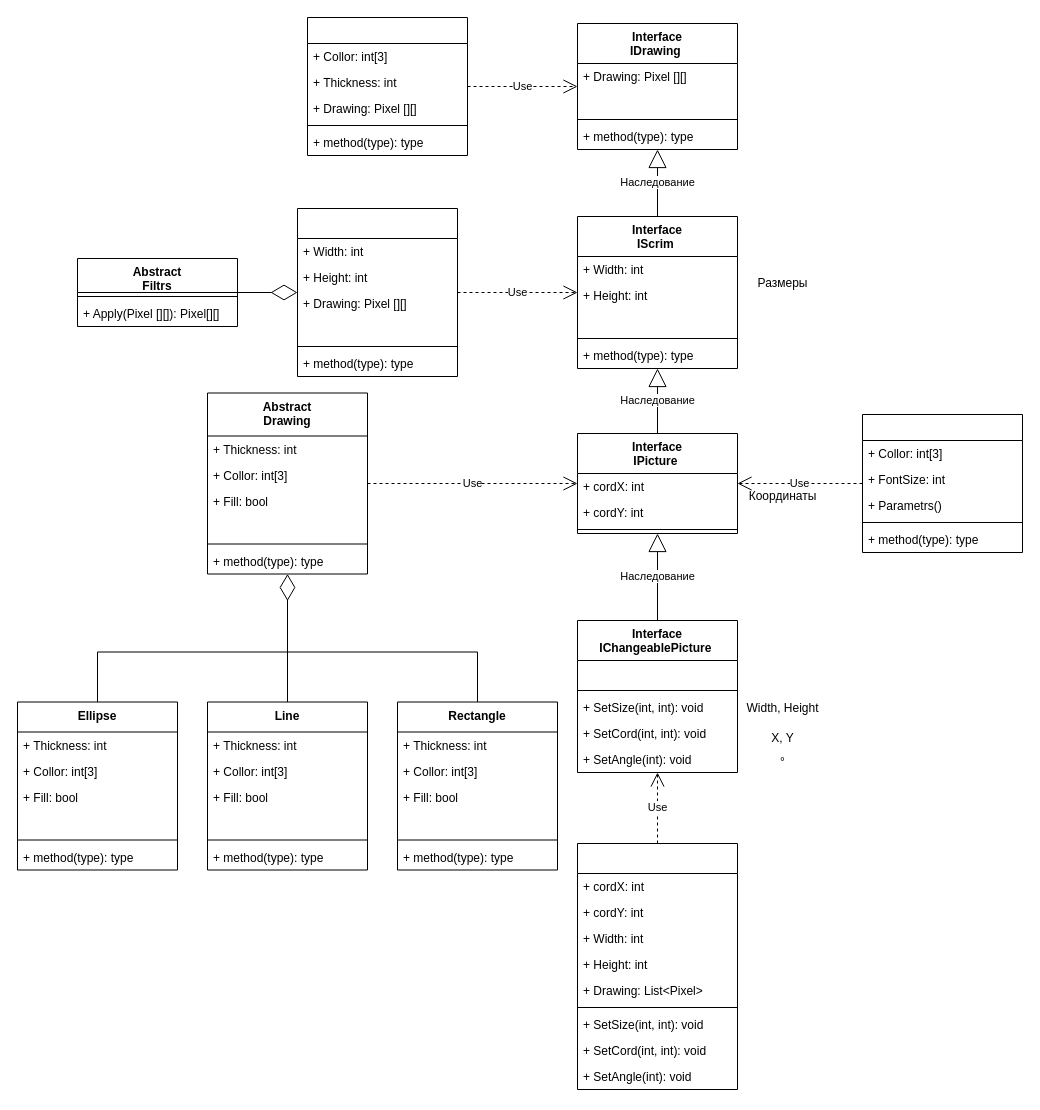
Some shapes in this 1040 by 1110 pixel diagram are drawn without their labels. Each missing label, with the box of its shape:
Brush: (306, 16, 468, 156)
Picture: (576, 842, 738, 1090)
Scrim: (296, 208, 458, 376)
ToolText: (862, 414, 1022, 552)
